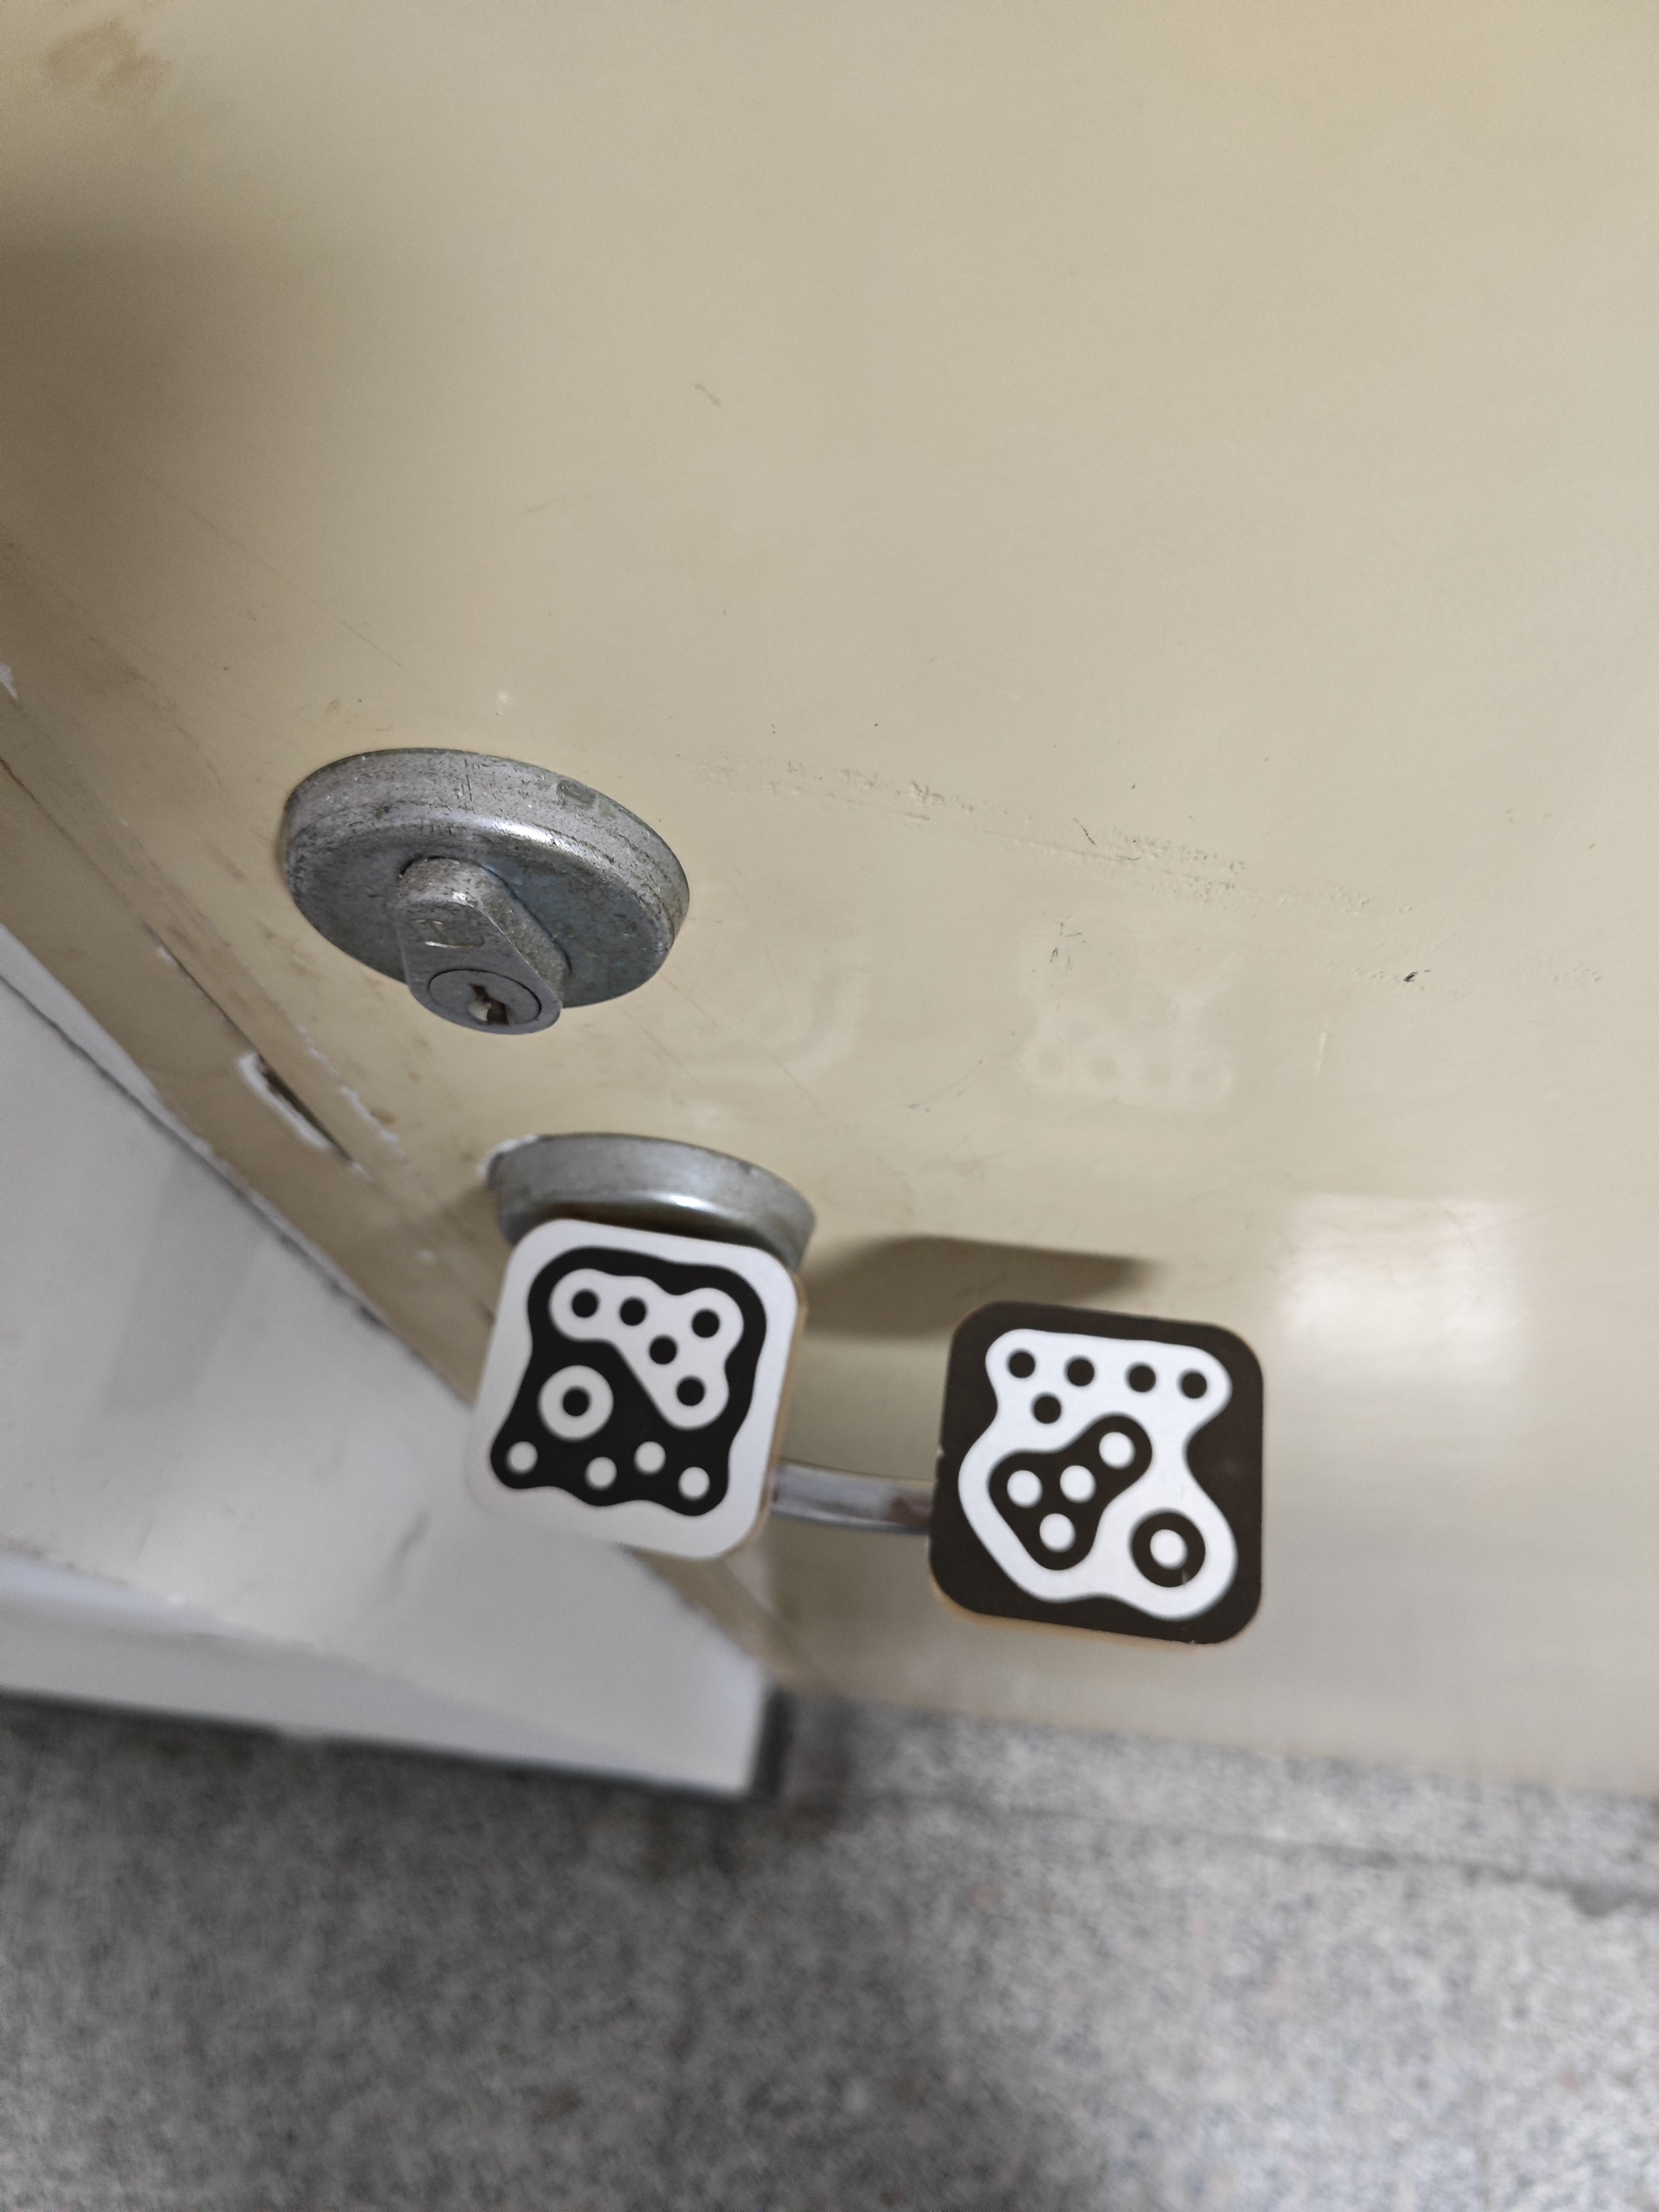mark1: (481, 1244, 770, 1522)
mark2: (955, 1317, 1251, 1634)
